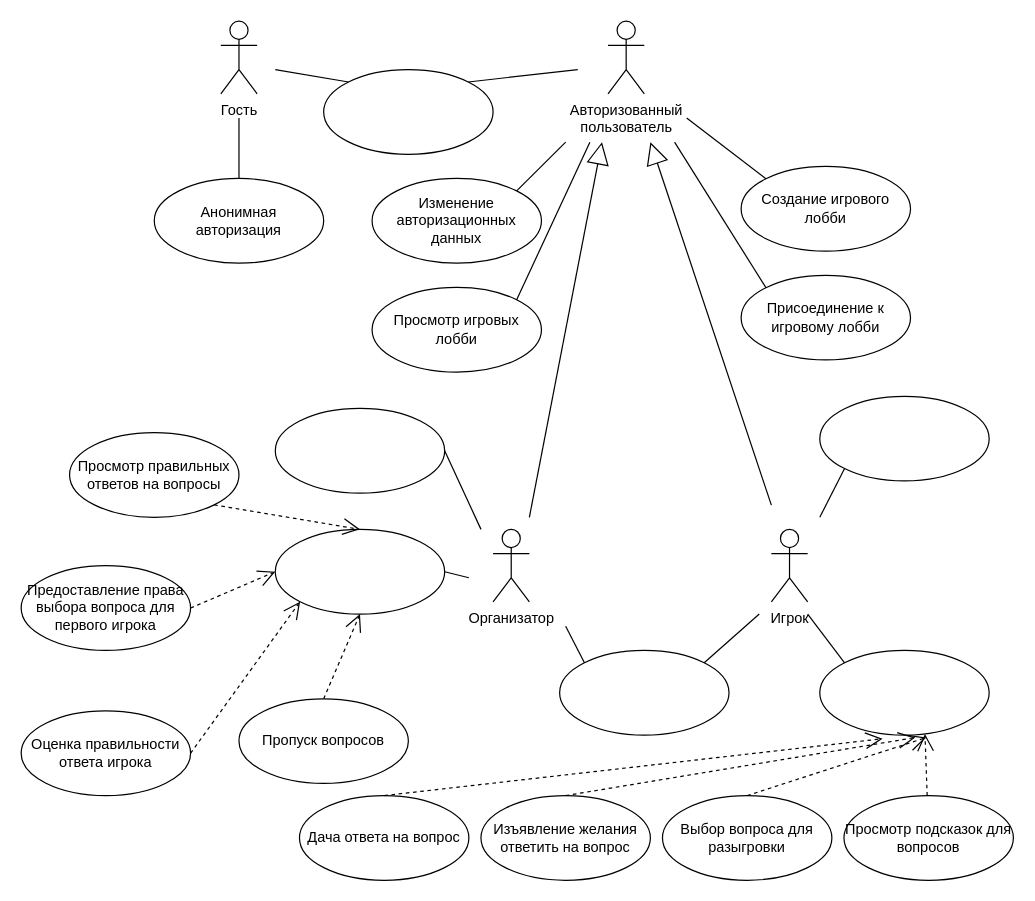
Image size: 1035x901. Some labels were removed from this diagram. The shapes that lost their labels are listed below. From the top down, each one's centre as x and y in pixels, then its label:
At (407,111): "Выход из приложения".
At (359,450): "Преждевременное завершение игры".
At (904,438): "Отключение от игры".
At (359,571): "Управление ходом игры".
At (643,692): "Просмотр счетов игроков".
At (904,692): "Принятие участия в игровом процессе".
